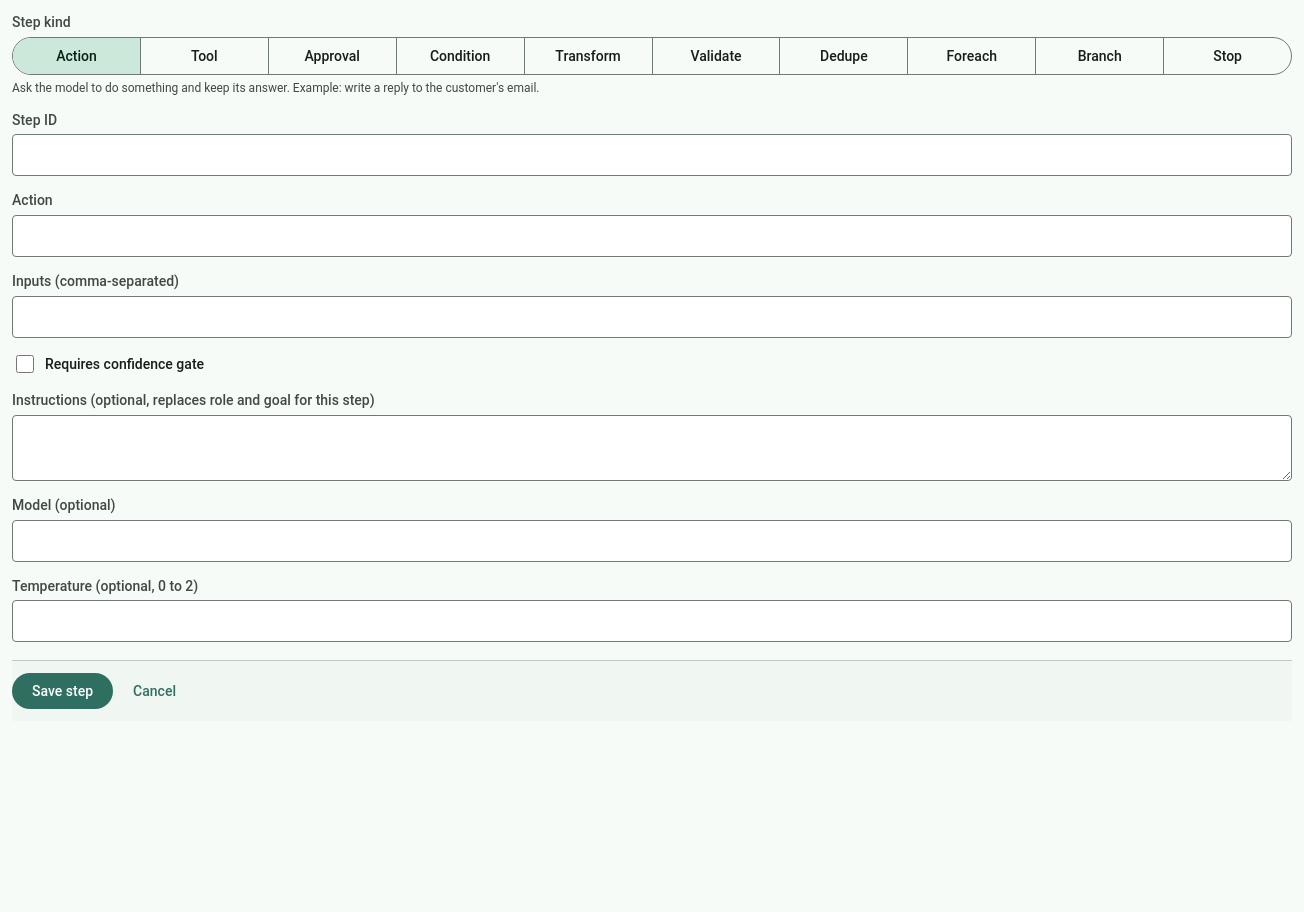
Test case: WorkflowStepForm foreach › shows an error for an empty body
The width and height of the screenshot is (1304, 912).
Click the button "Foreach". click: (972,56)
box: [908,38,1036,74]
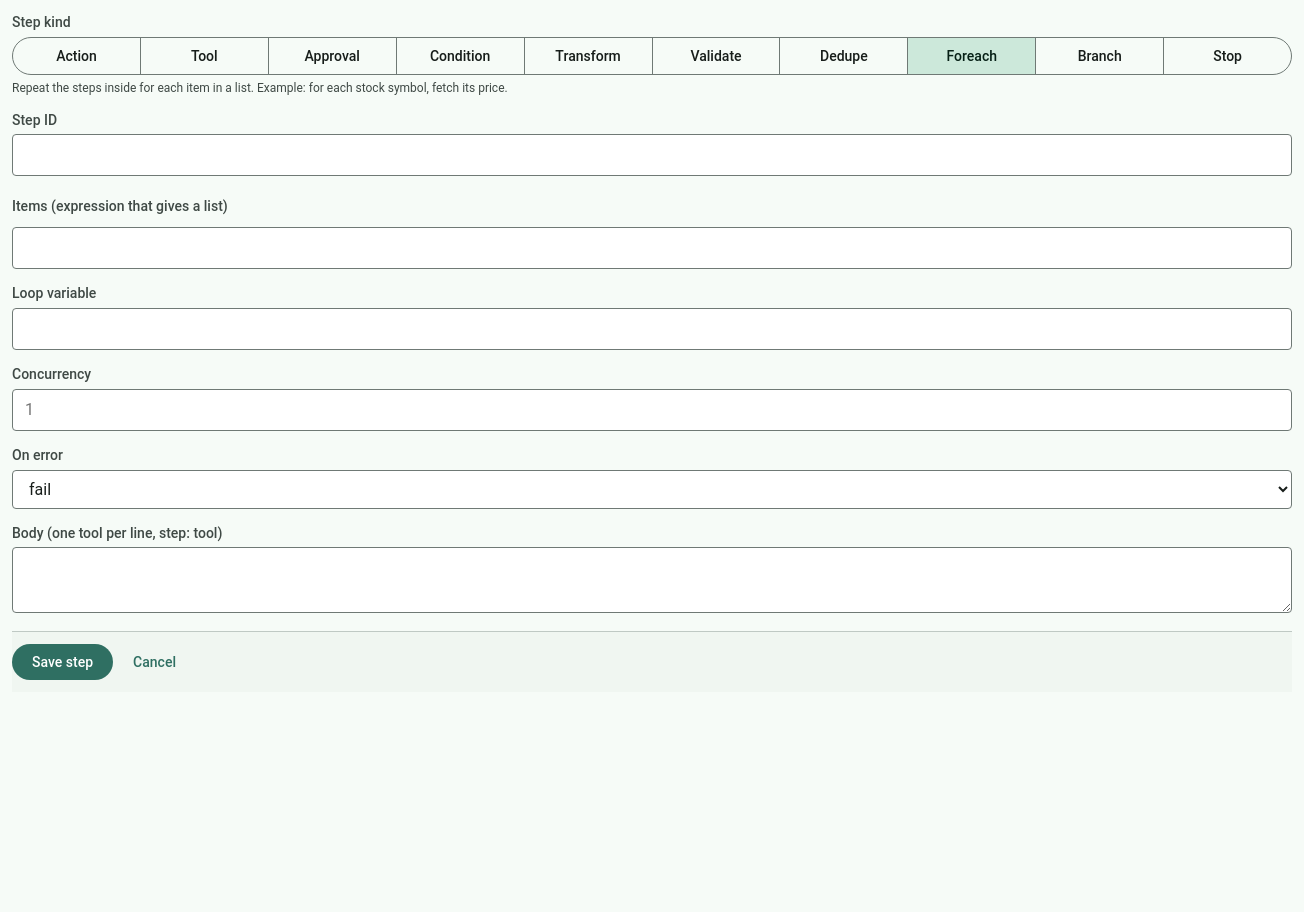
Type "each" into the field labelled "Step ID". click: (652,155)
box: [12,134,1292,176]
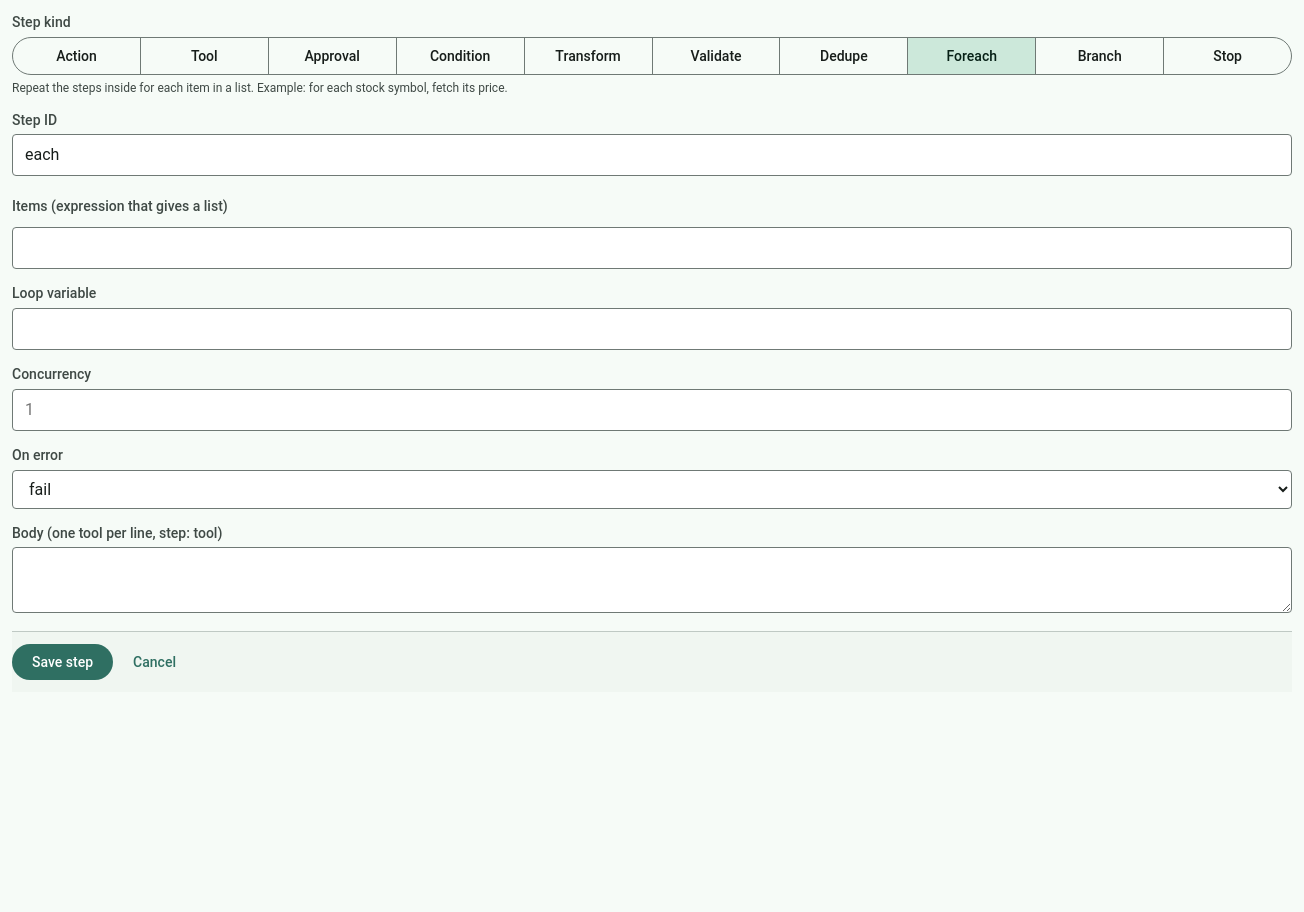
Type "x" into the field labelled "Items (expression that gives a list)". click: (652,248)
box: [12,227,1292,269]
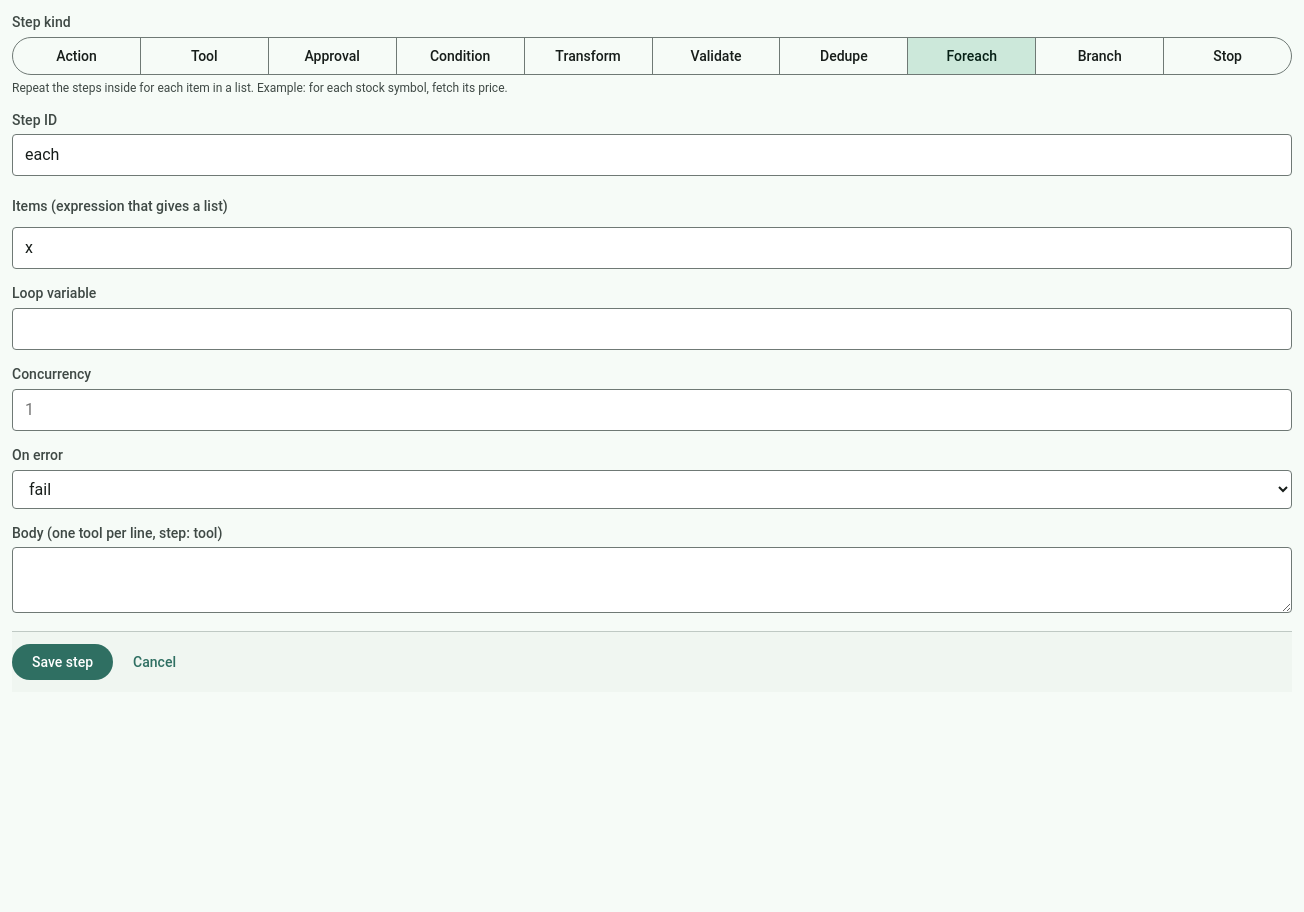
Type "i" into the field labelled "Loop variable". click: (652,329)
box: [12,308,1292,350]
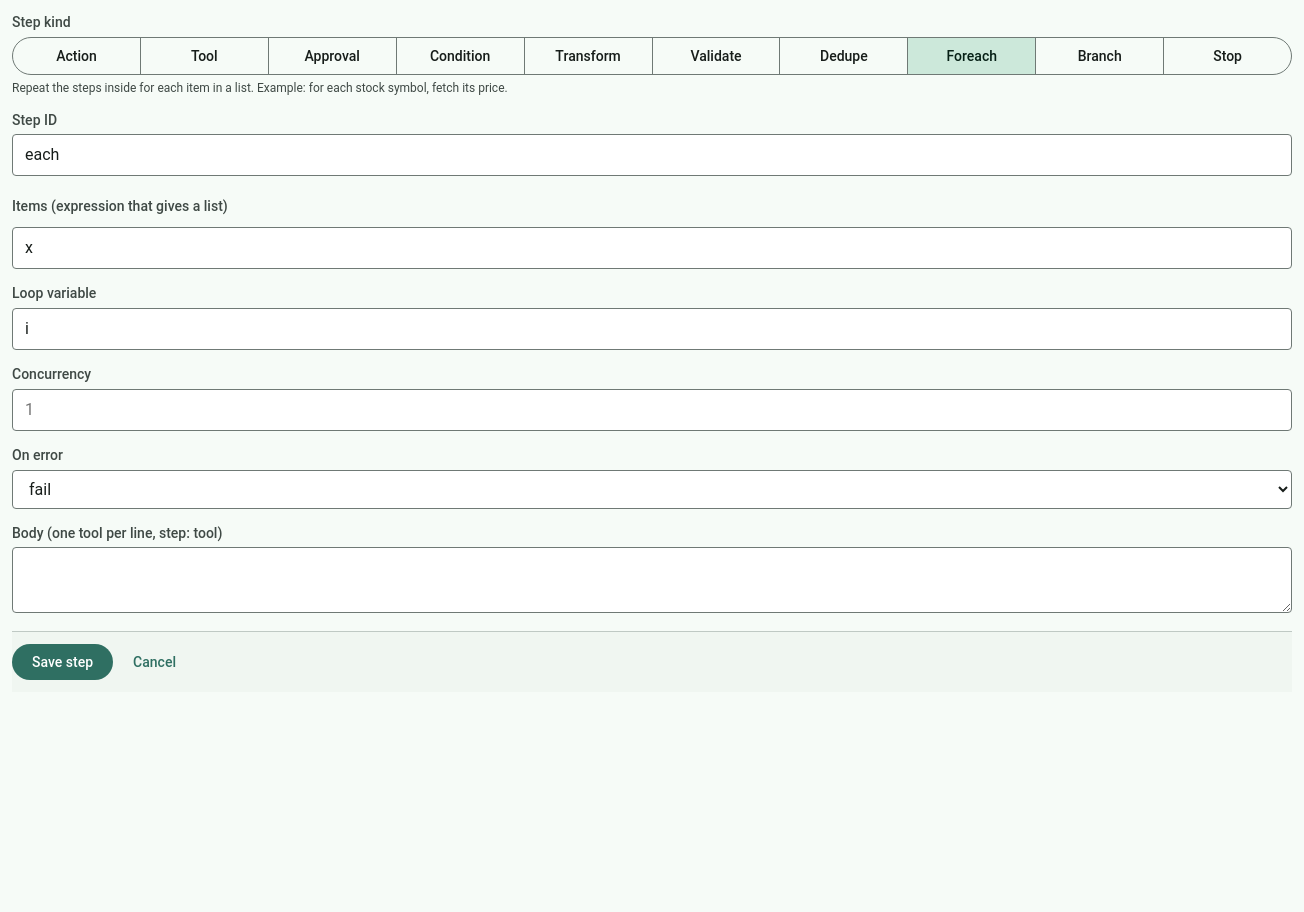
Click the button "Save step". click: (63,662)
box: [12,644,113,680]
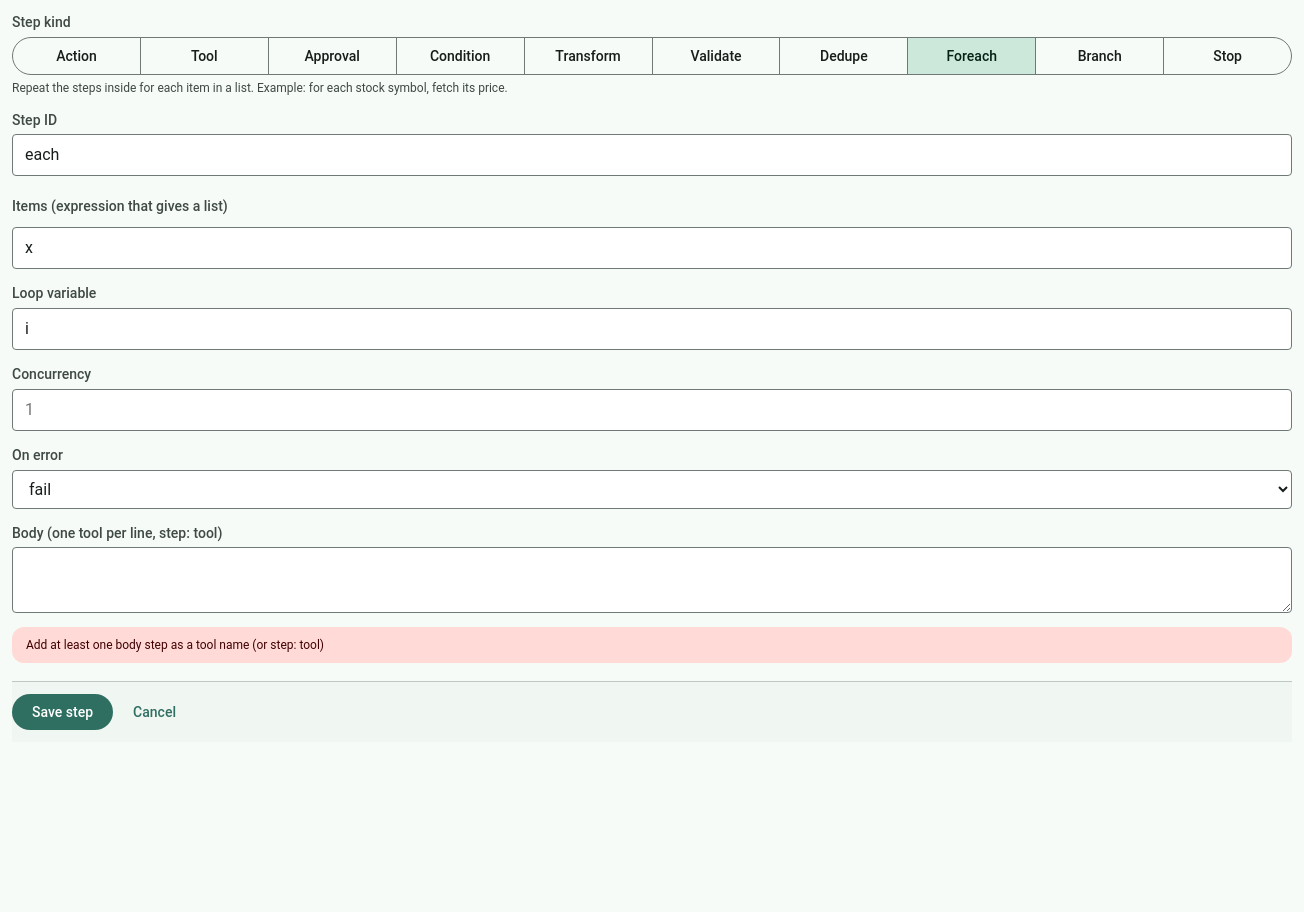
expect the list item "Add at least one body step as a tool name (or step: tool)" is shown: met, box [26,638,324,652]
